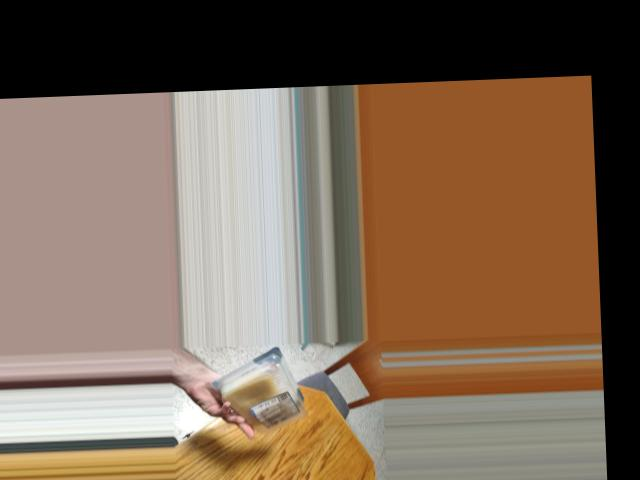cheese: (209, 352, 307, 421)
